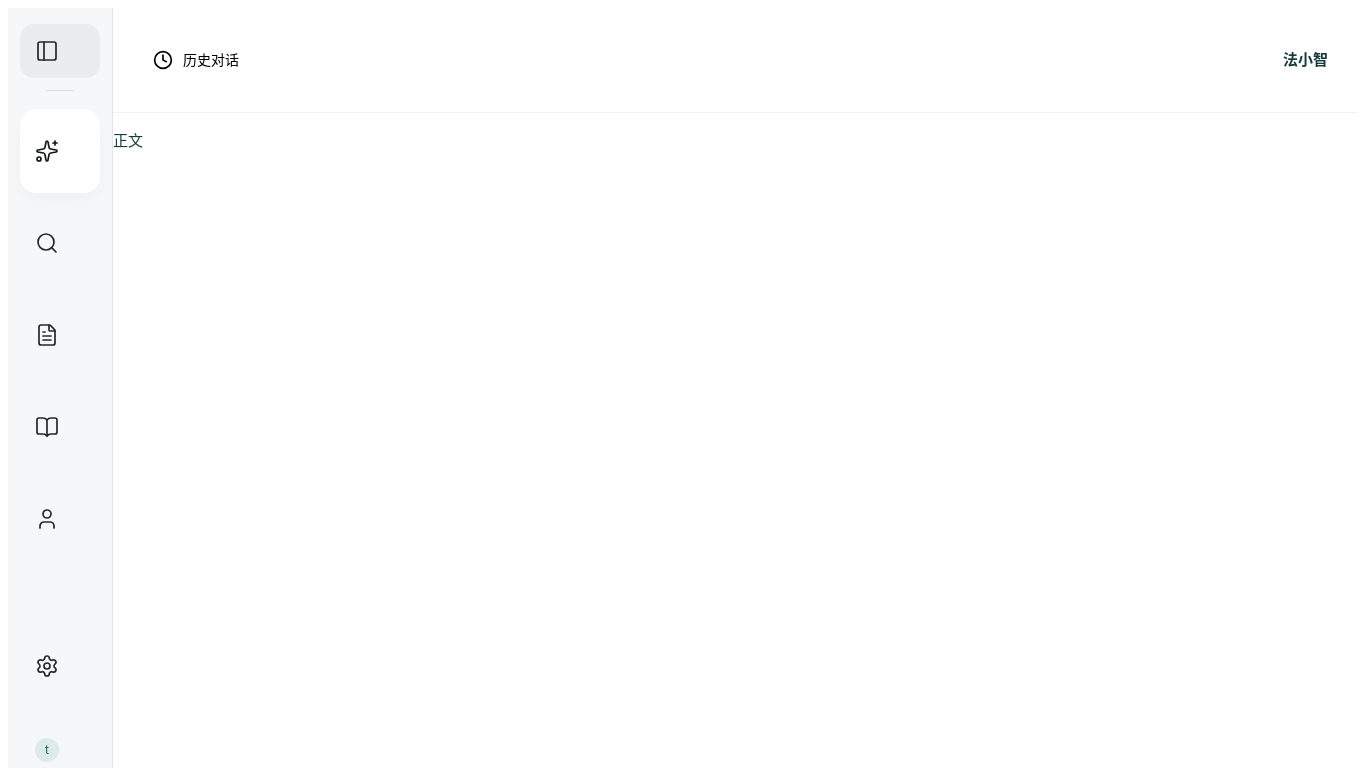
Test: shows a recoverable history error without fake rows
This screenshot has width=1366, height=768.
expect the link named "设置" is shown: met, box [35,654,59,678]
Click the button "历史对话": click(196, 60) [143,38,249,82]
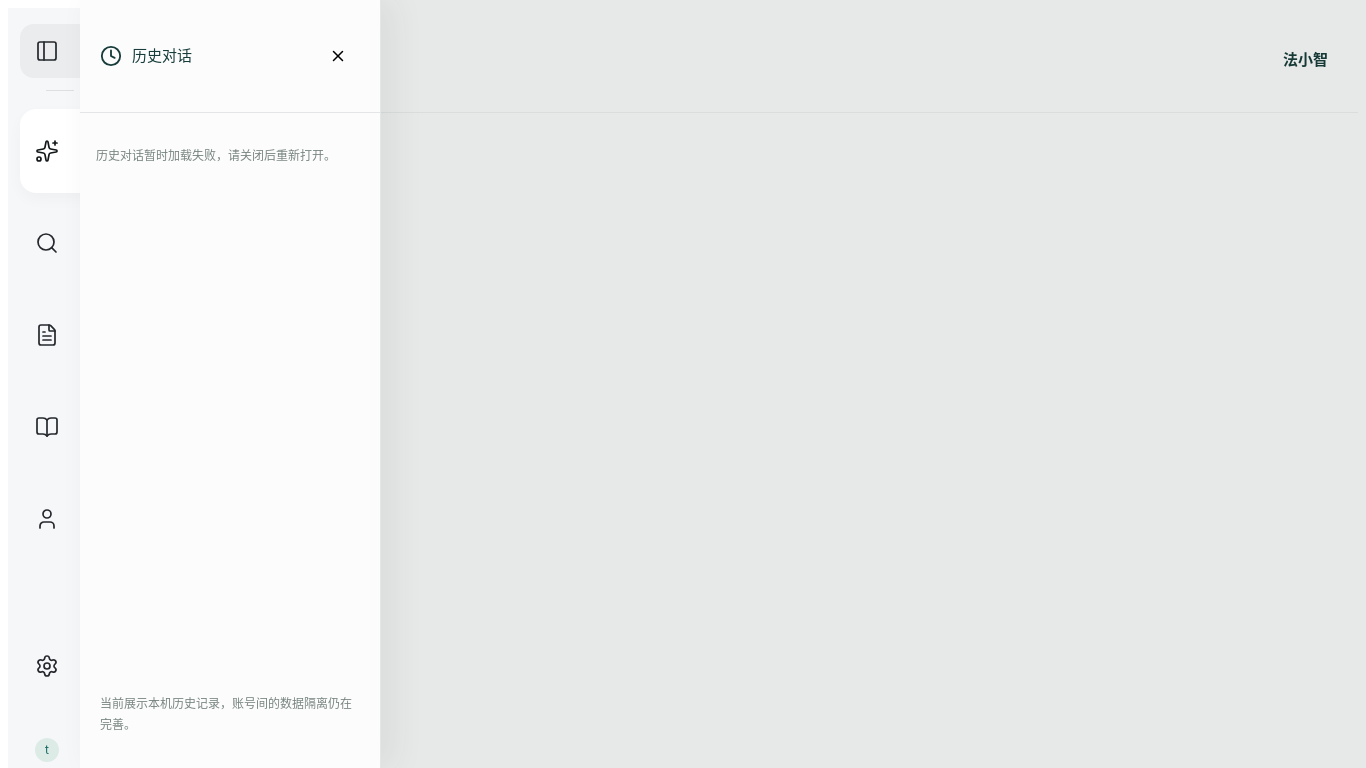
expect the text "历史对话暂时加载失败，请关闭后重新打开。" is shown: met, box [96,145,364,167]
